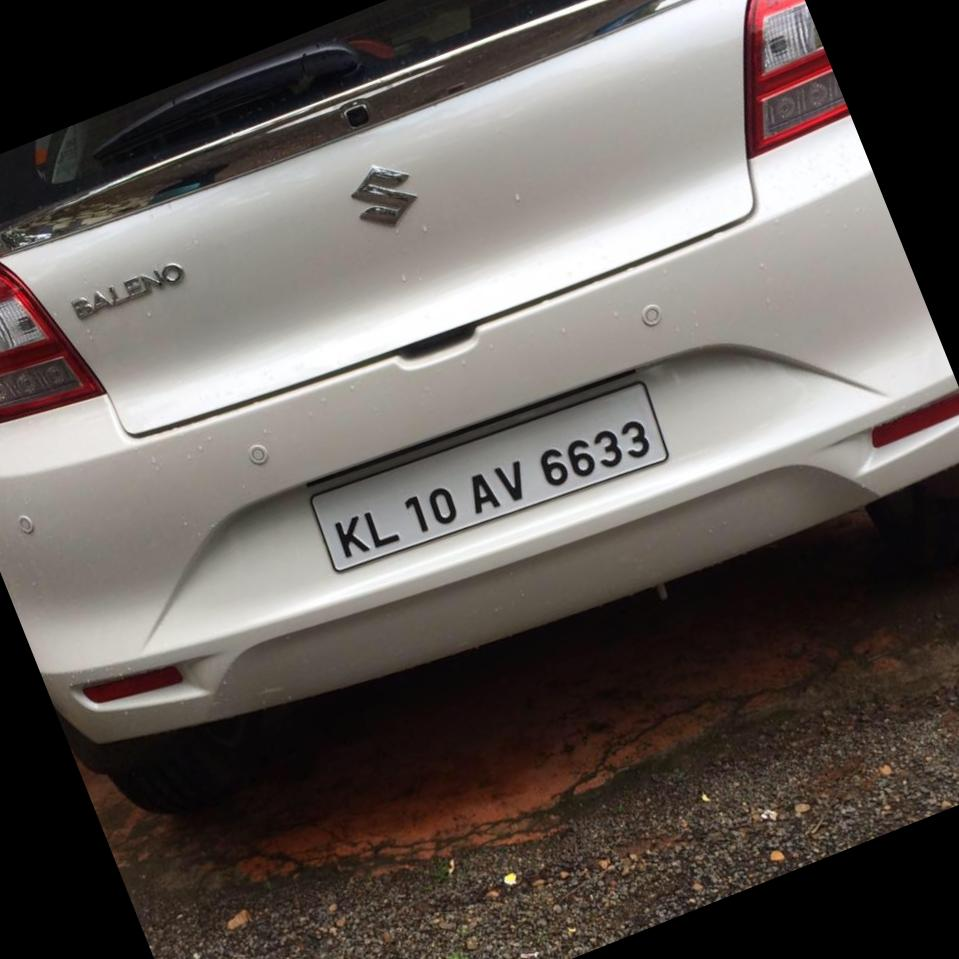plate: (292, 353, 677, 595)
